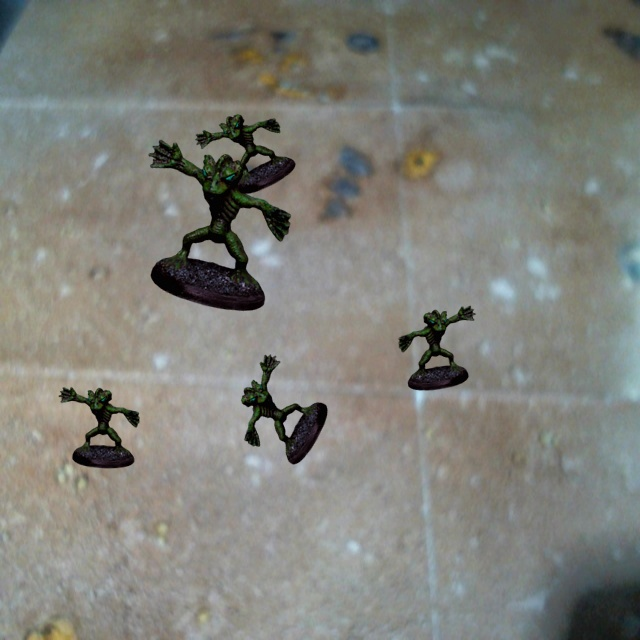pieza_juego: (148, 140, 290, 310), (241, 354, 327, 464), (195, 114, 295, 193), (59, 387, 139, 468), (398, 306, 475, 390)
